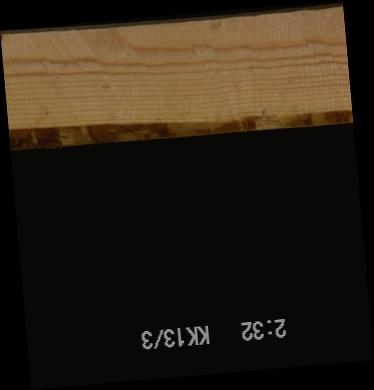wave: (8, 109, 351, 140)
